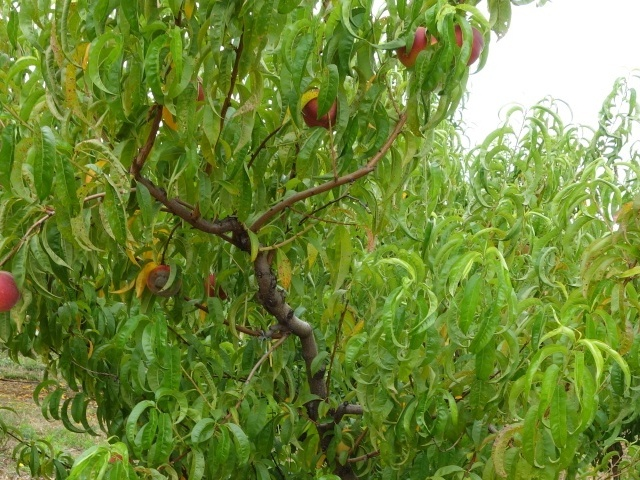peach: (393, 26, 443, 74), (297, 88, 343, 135), (446, 18, 488, 67), (144, 260, 182, 299), (1, 269, 24, 313)
